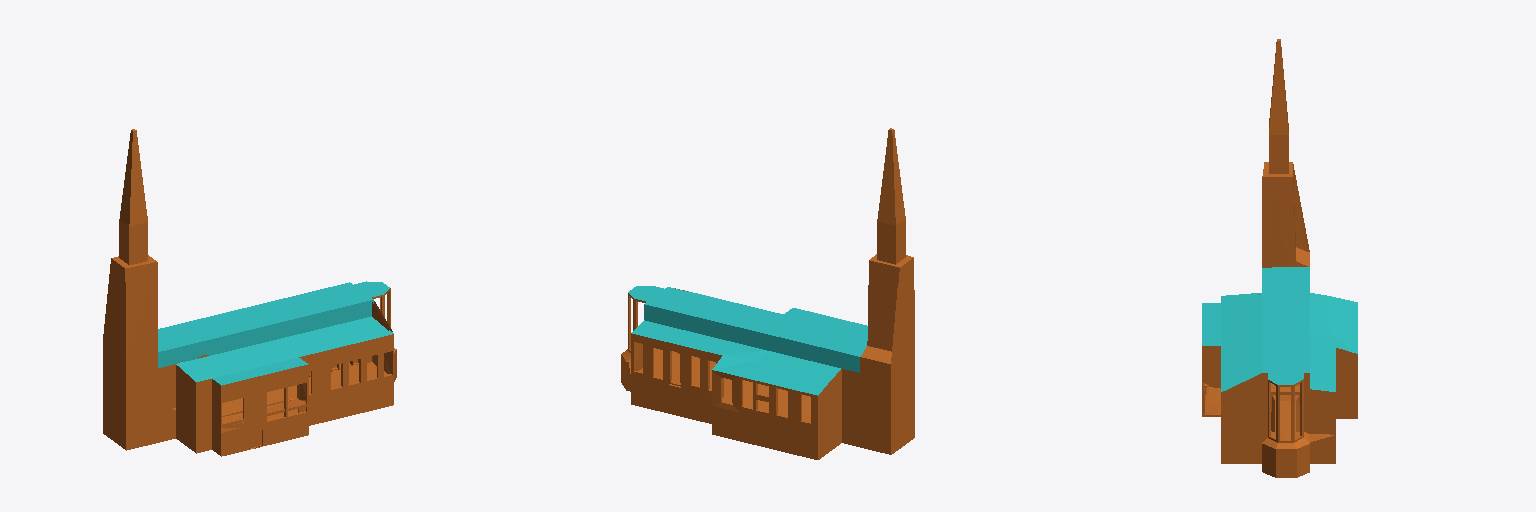
The model's file is cov-cathedral-solid.obj.
3 renders of one model, left to right at view 1: azimuth 30°, elevation 25°; view 2: azimuth 150°, elevation 25°; view 3: azimuth 270°, elevation 25°, orthographic.
Visible parts, largest first — view 1: Cube; view 2: Cube; view 3: Cube.
Boxes of the visible parts, <box> form: Cube: <box>103,129,396,456</box>; Cube: <box>621,128,914,459</box>; Cube: <box>1202,39,1357,477</box>.
Size of the model in its own units: 22.37 by 24.14 by 10.86.